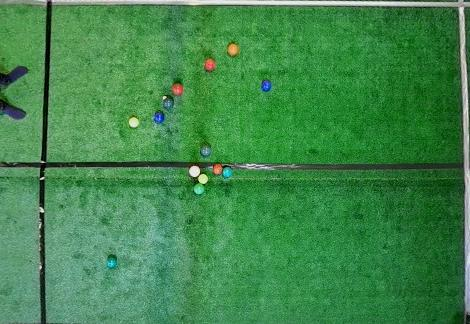blue: (154, 111, 165, 123), (261, 79, 272, 91)
green: (200, 145, 212, 157), (194, 183, 206, 195), (223, 166, 234, 178), (107, 256, 117, 268), (164, 98, 174, 108)
red: (204, 58, 216, 72), (227, 43, 239, 56), (189, 165, 200, 178), (212, 163, 223, 176), (172, 83, 183, 96)
vline: (1, 0, 53, 323), (455, 0, 469, 324)
white: (162, 96, 167, 100)
yellow: (128, 116, 140, 128), (198, 173, 209, 185)
